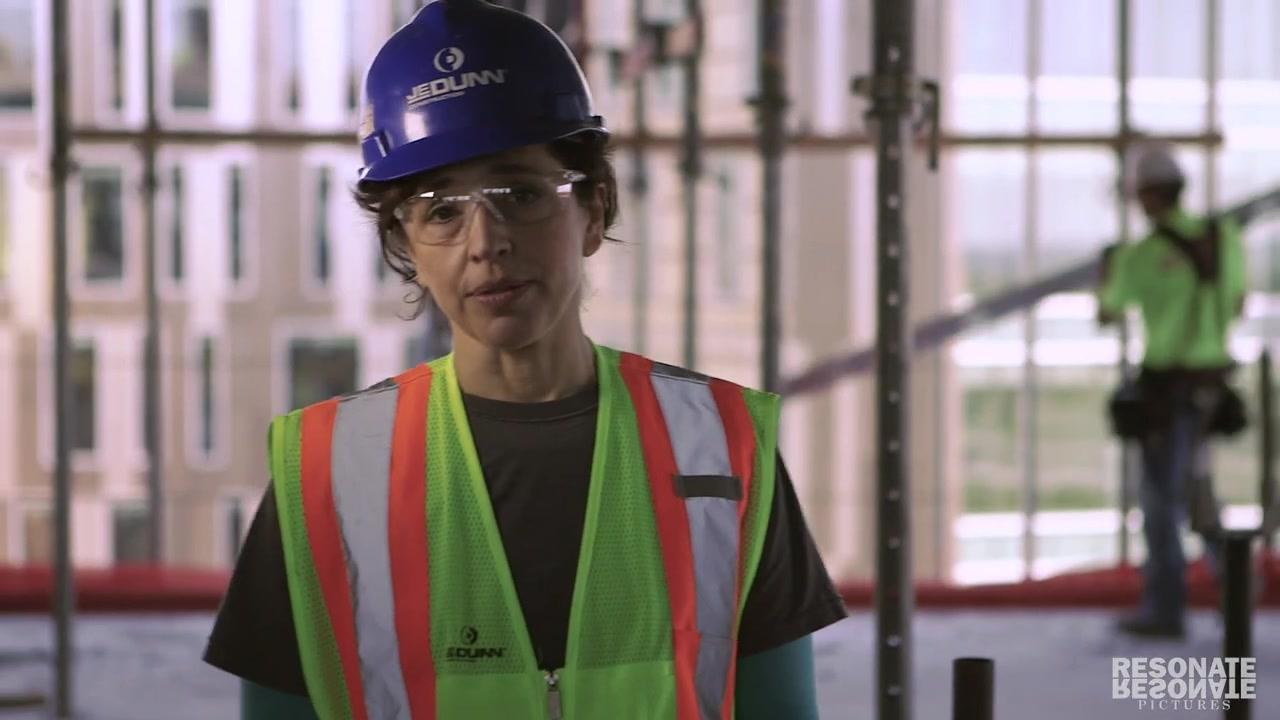vest: (268, 339, 792, 715)
